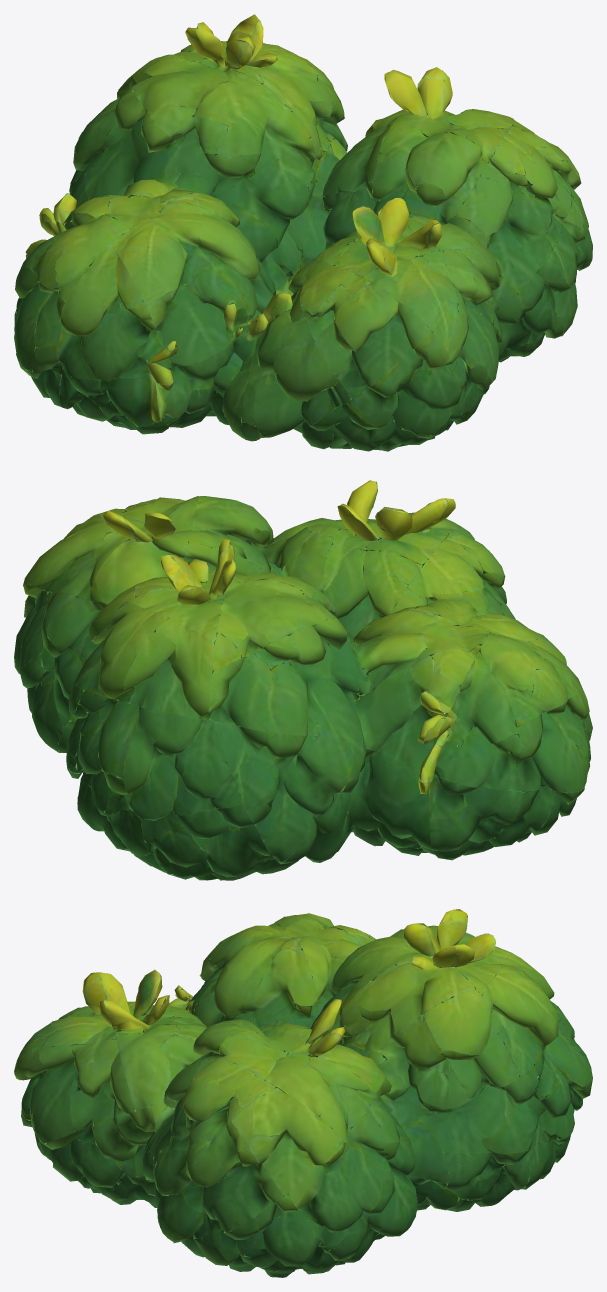
Rendered from verdant-glow.glb.
3 renders of one model, top to bottom at view 1: azimuth 30°, elevation 25°; view 2: azimuth 150°, elevation 25°; view 3: azimuth 270°, elevation 25°, orthographic. The views are drawn at different scales.
Parts seen in each view (by area): view 1: mesh_node; view 2: mesh_node; view 3: mesh_node.
Boxes of the visible parts, <box> form: mesh_node: <box>14,14,592,451</box>; mesh_node: <box>14,480,592,880</box>; mesh_node: <box>14,909,592,1277</box>.
Bounding box in the file's own units: 1.9 × 0.9507 × 1.89.
Materials: 1 (1 with a texture image).
